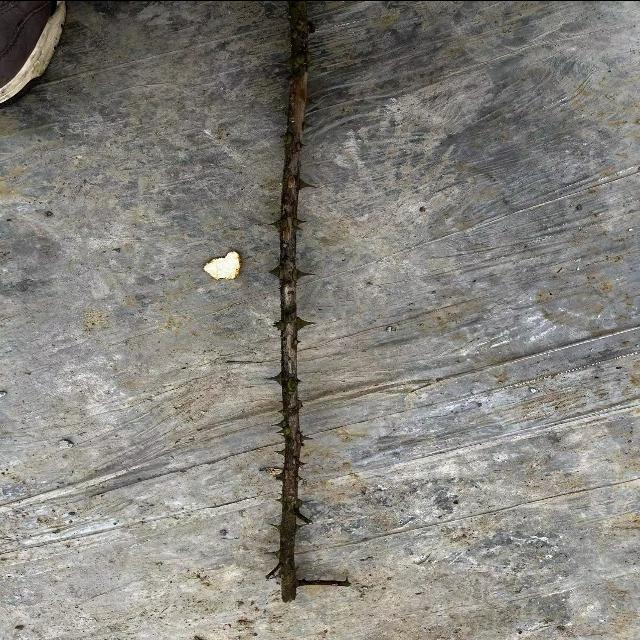branch: (274, 0, 314, 600)
